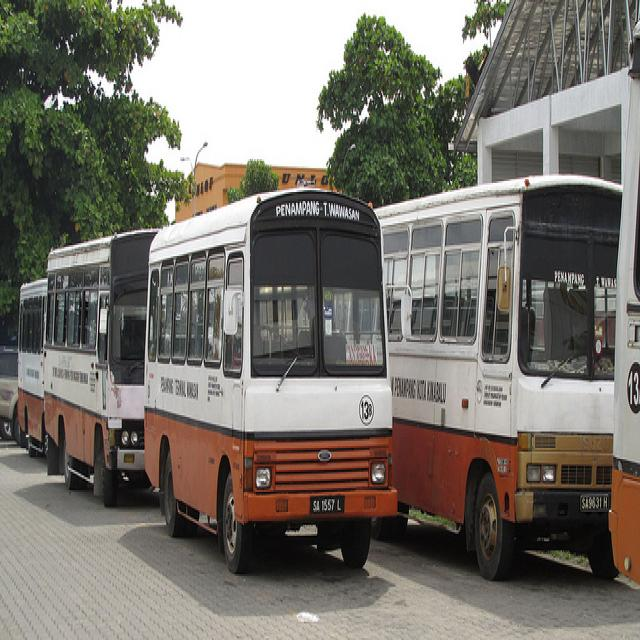Vehicle: (382, 174, 627, 590), (146, 189, 396, 579), (43, 228, 164, 510), (612, 88, 640, 583), (16, 280, 48, 459), (0, 346, 18, 439)
